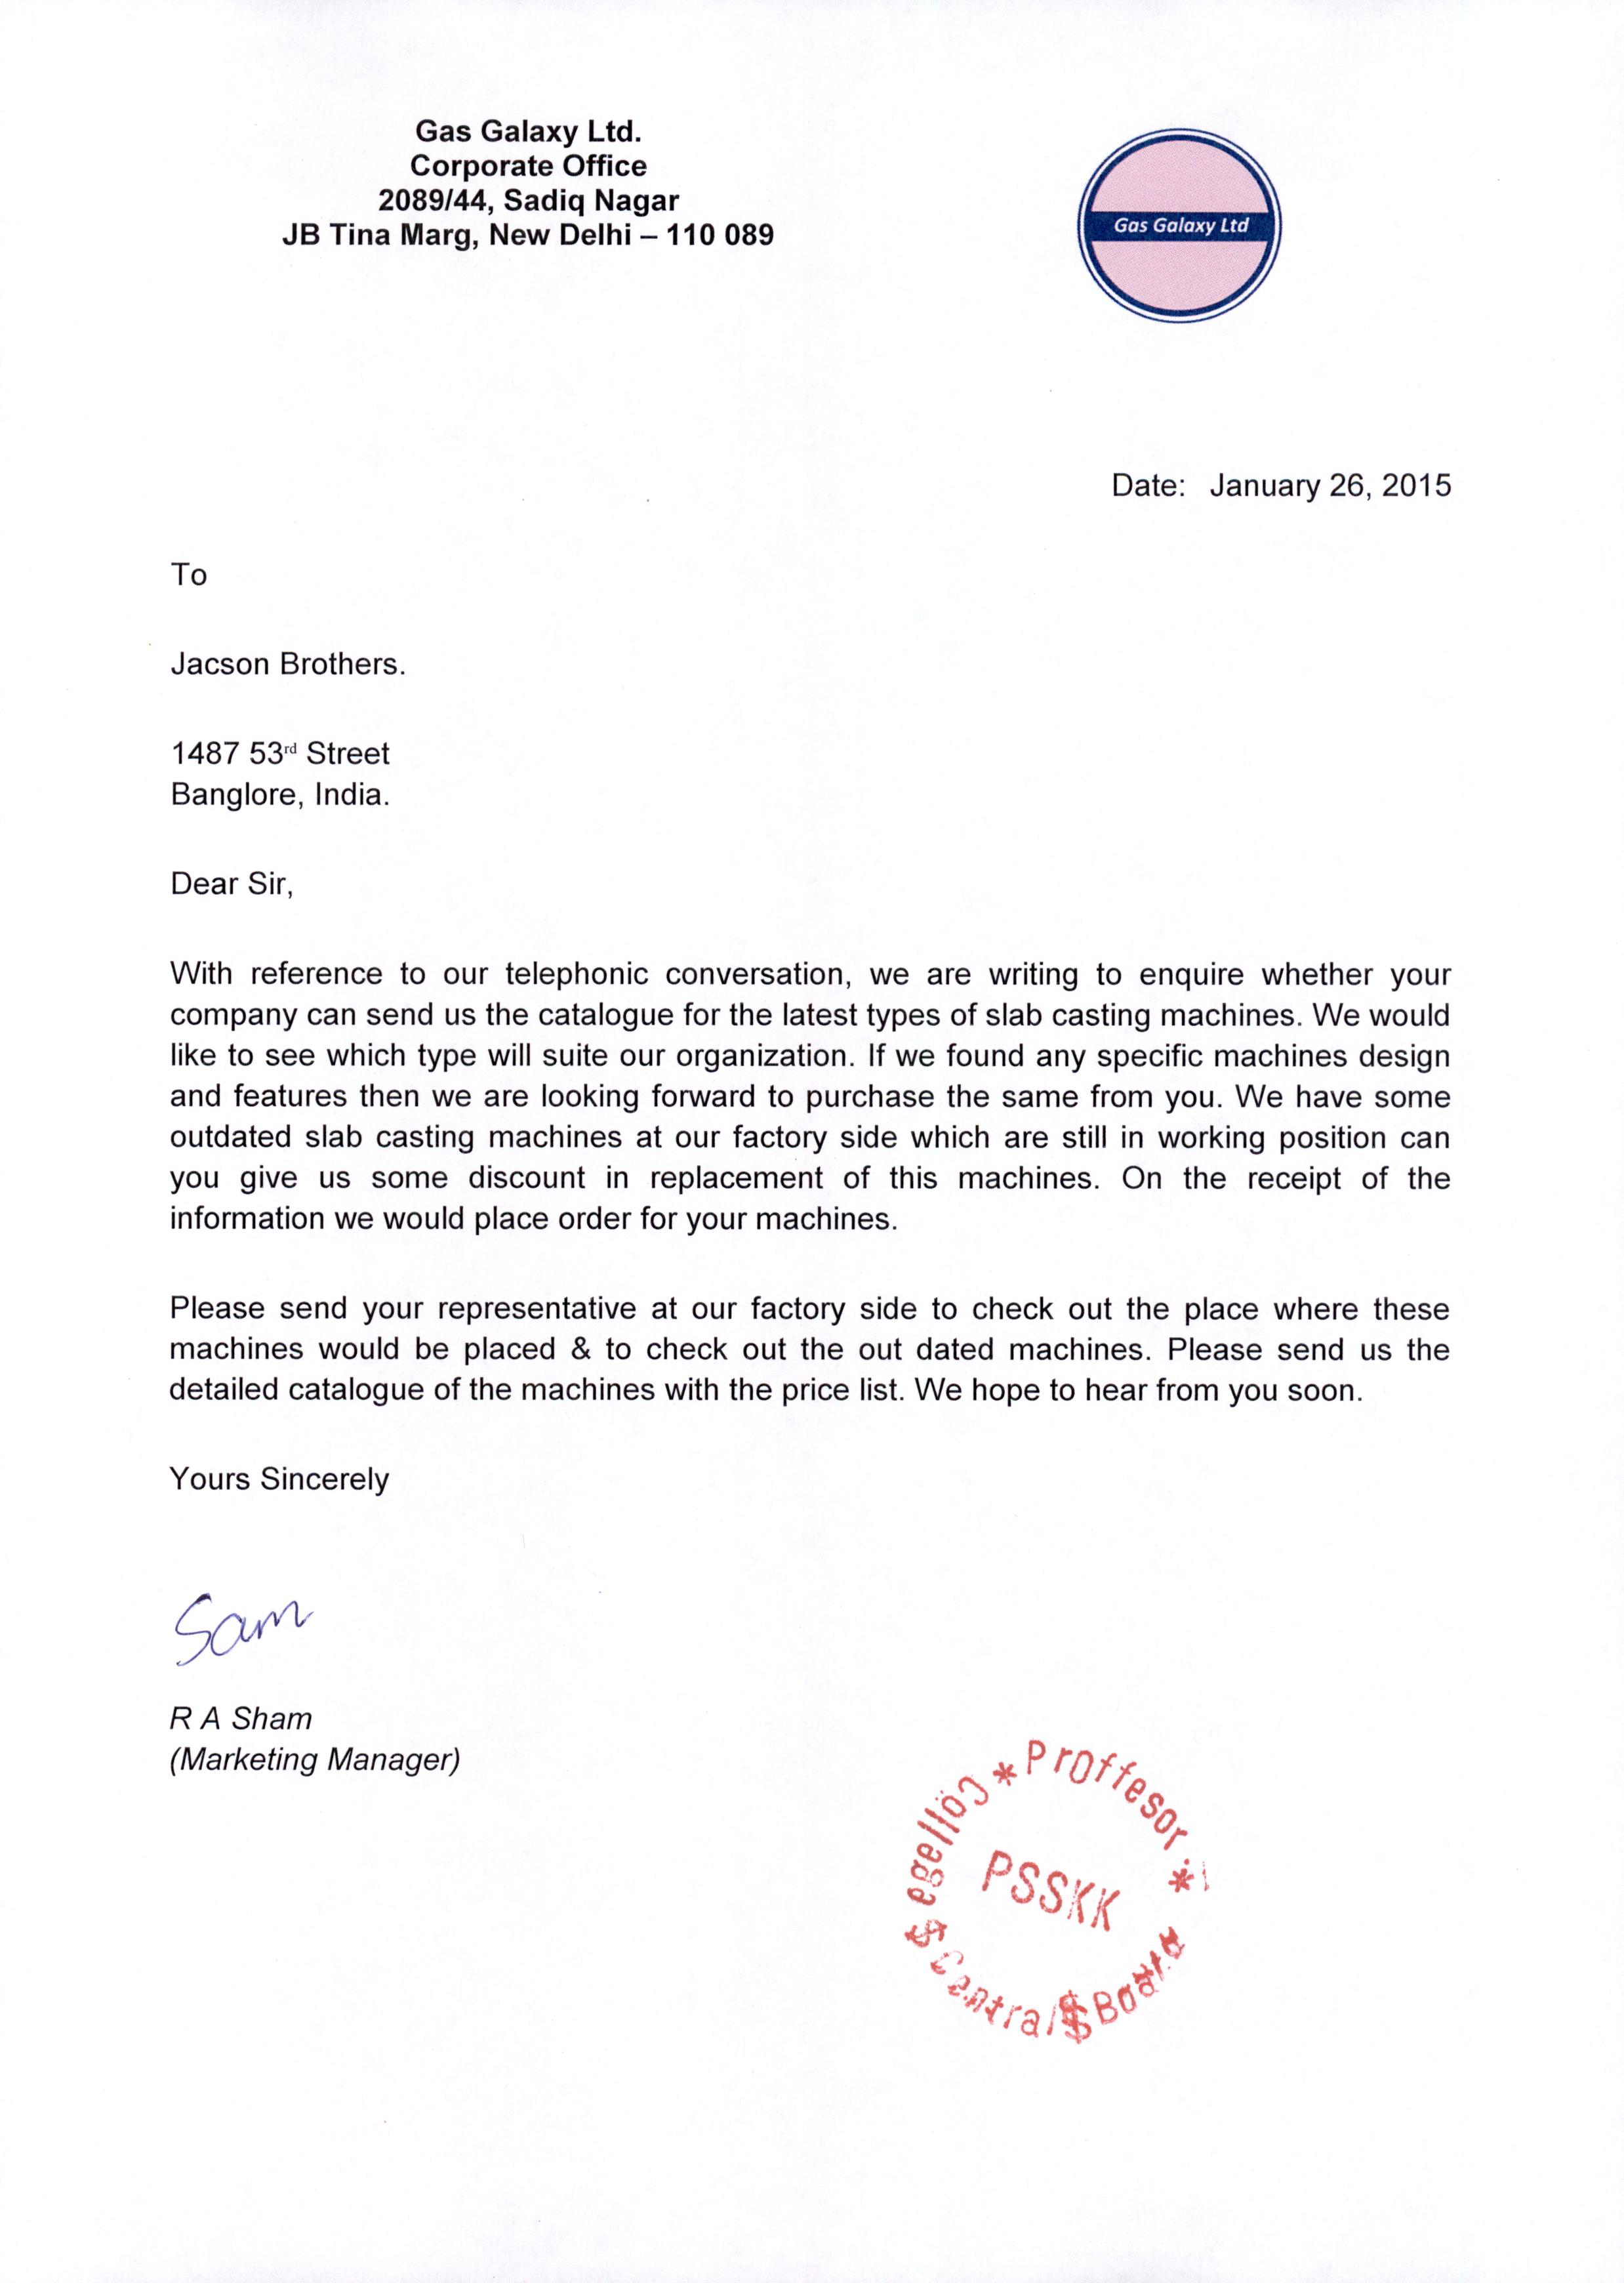Signature: (167, 1576, 318, 1675)
